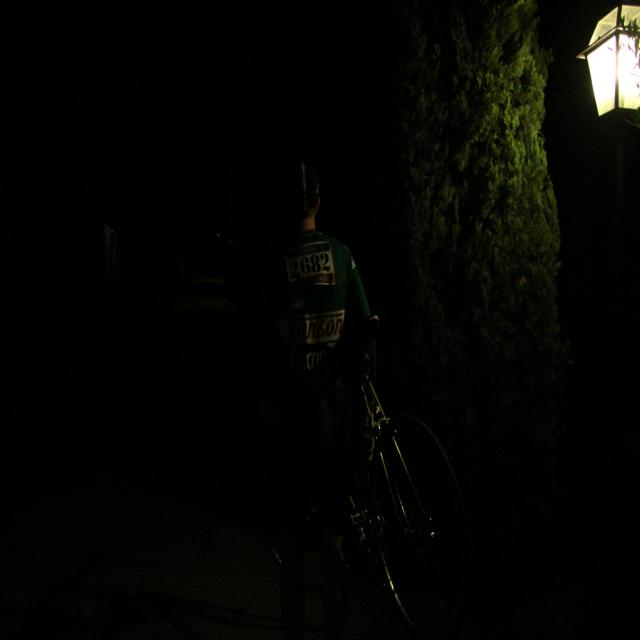Bicycle: (220, 363, 509, 640)
People: (271, 126, 368, 456)
